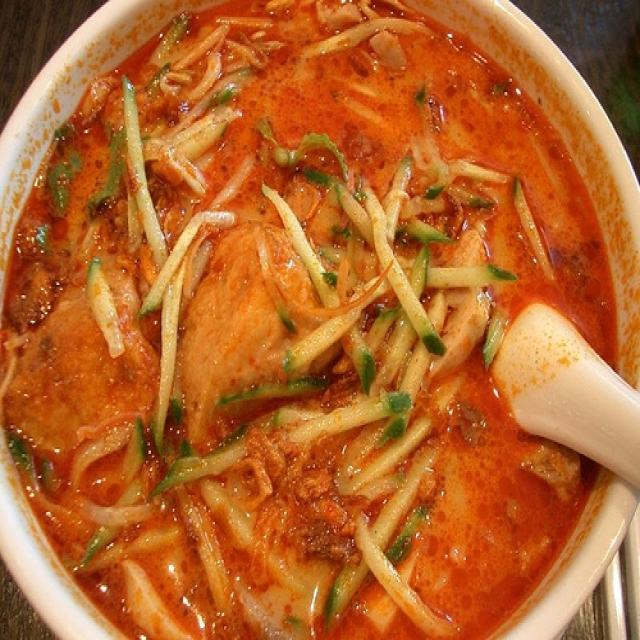面条主食: (16, 12, 596, 631)
